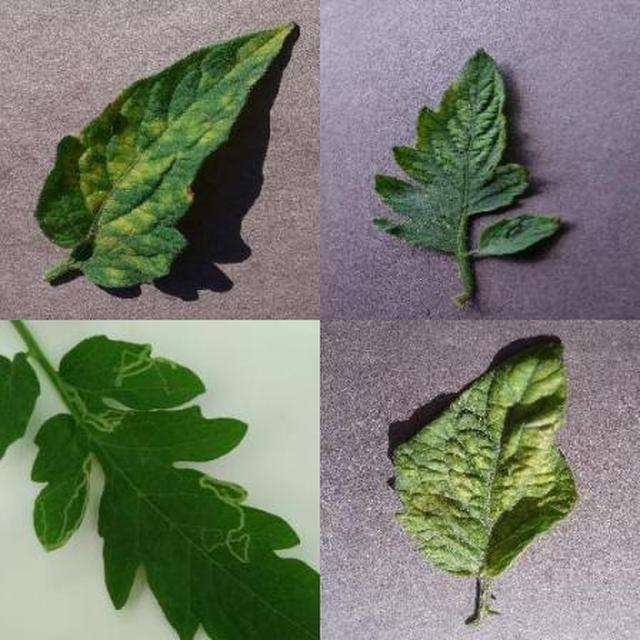Leaf Mold: (221, 218, 640, 640)
